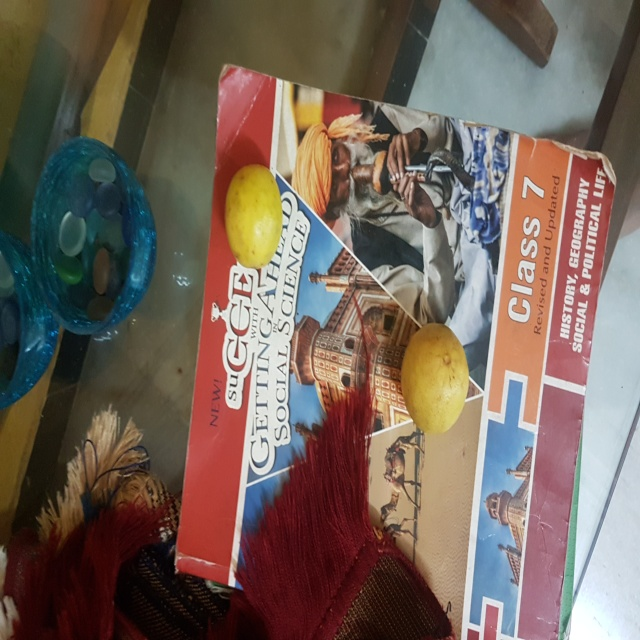lemon: (395, 309, 483, 438), (222, 164, 297, 271)
